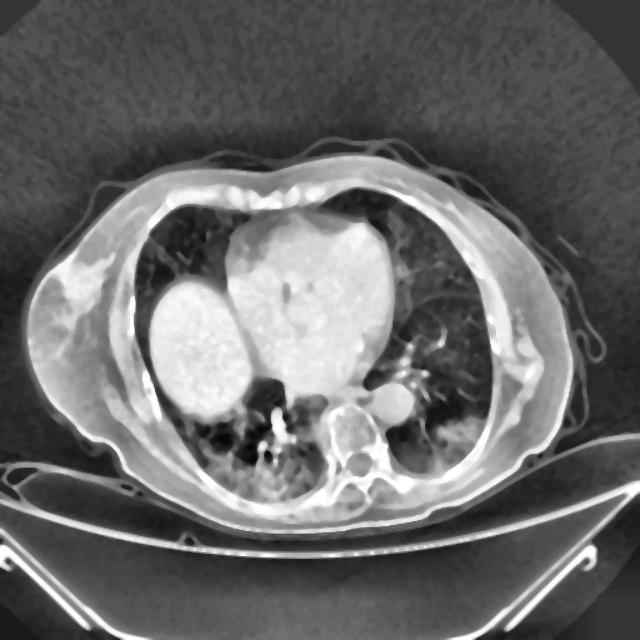covid: (22, 141, 594, 540)
